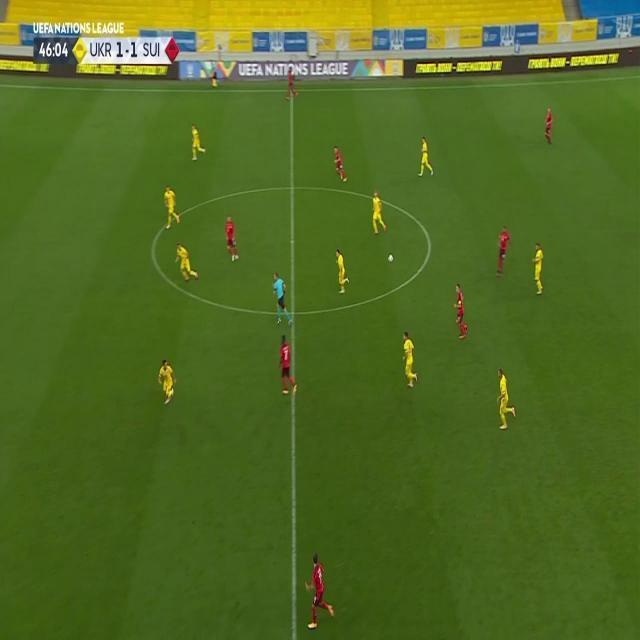ball: (388, 252, 395, 264)
player: (303, 551, 336, 629), (495, 366, 517, 431), (277, 333, 298, 395), (400, 330, 418, 388), (175, 241, 199, 282), (452, 283, 468, 341), (496, 225, 513, 277), (158, 360, 177, 405), (163, 185, 182, 229), (369, 189, 387, 235), (531, 241, 545, 295), (416, 135, 434, 177), (335, 247, 351, 294), (224, 214, 239, 262), (190, 123, 206, 161), (333, 144, 348, 182), (286, 63, 299, 101), (543, 107, 554, 145)
referee: (270, 271, 291, 325)
